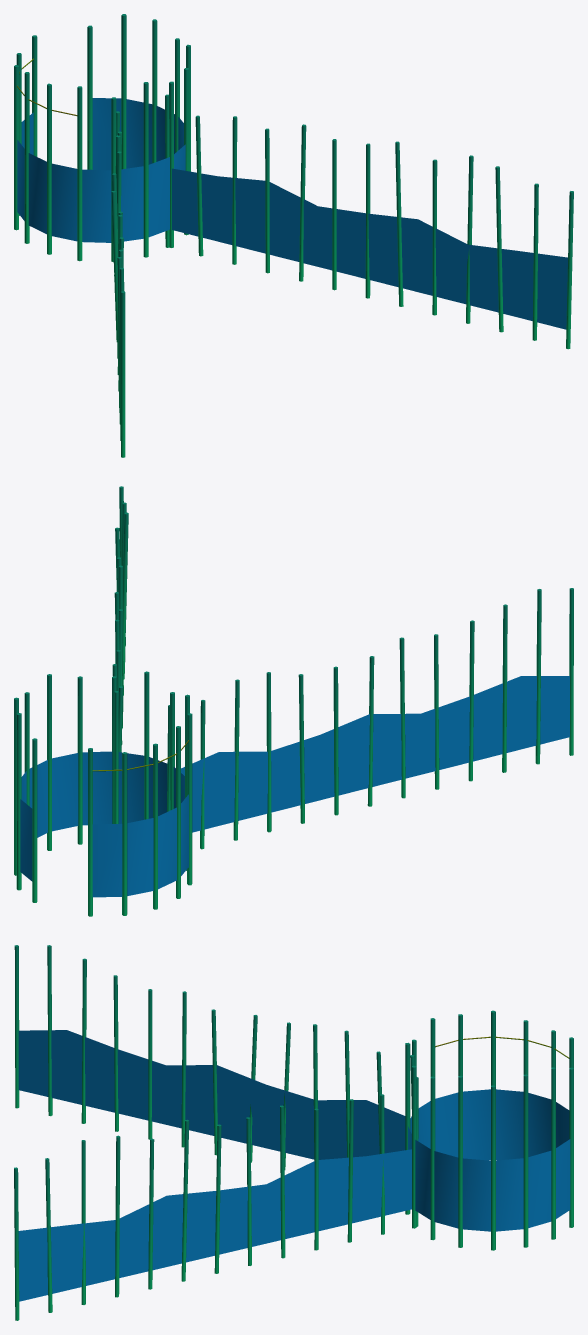
File: fish_weir.glb
3 views of the same model, one above another, from view 1: azimuth 30°, elevation 25°; view 2: azimuth 150°, elevation 25°; view 3: azimuth 270°, elevation 25° (orthographic). The views are drawn at different scales.
Visible parts, largest first — view 1: fish_weir; view 2: fish_weir; view 3: fish_weir.
Boxes of the visible parts, bbox=[...] form: fish_weir: bbox=[14, 14, 573, 457]; fish_weir: bbox=[14, 486, 573, 916]; fish_weir: bbox=[14, 945, 573, 1320].
Size of what is drawn, in the model's own units: 7.82 by 2.9 by 8.58.
